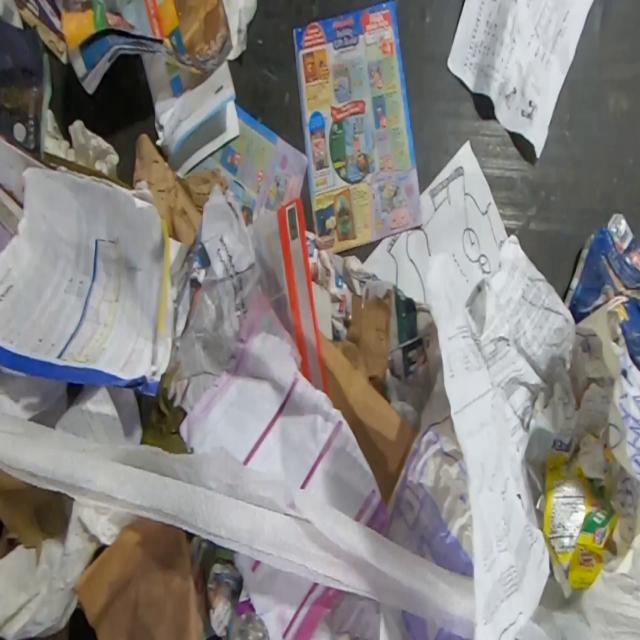cardboard: (318, 288, 418, 507), (73, 514, 206, 640), (540, 434, 621, 601), (564, 209, 640, 370), (0, 468, 68, 567)
